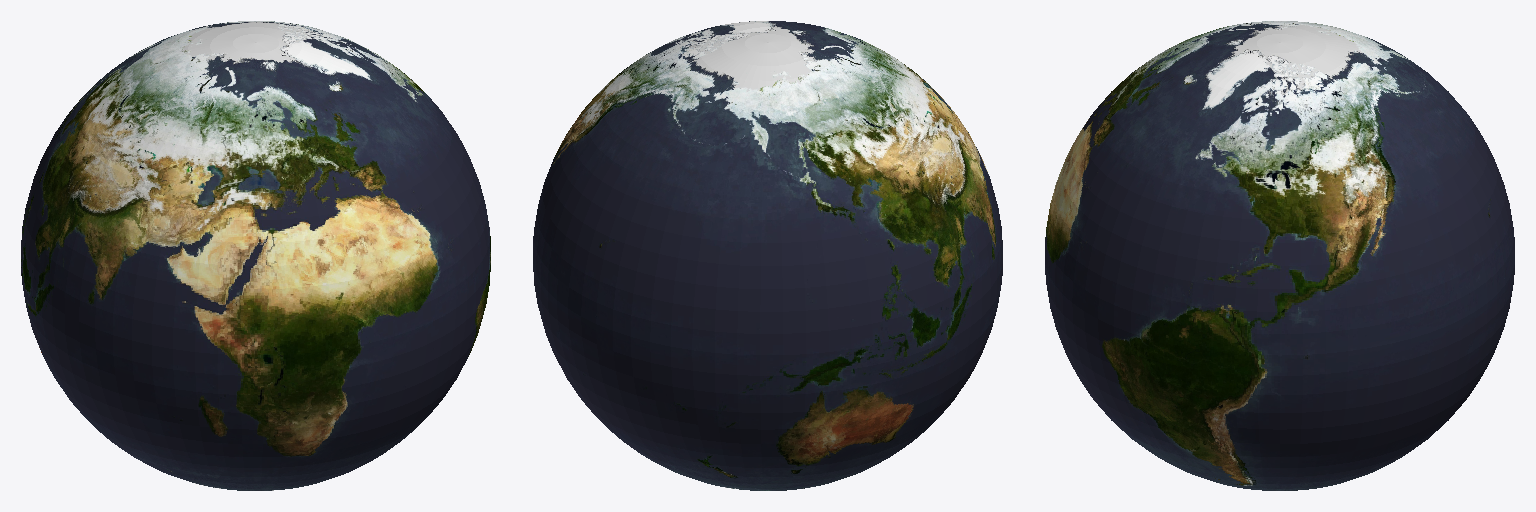
3 views of the same model, side by side, from view 1: azimuth 30°, elevation 25°; view 2: azimuth 150°, elevation 25°; view 3: azimuth 270°, elevation 25° (orthographic).
Visible parts, largest first — view 1: globe_Sphere.001; view 2: globe_Sphere.001; view 3: globe_Sphere.001.
Boxes of the visible parts, box(x1,y1,x2,y2) form: globe_Sphere.001: box(21, 21, 490, 490); globe_Sphere.001: box(533, 21, 1002, 490); globe_Sphere.001: box(1045, 21, 1514, 490).
Size of the model in its own units: 14 by 14 by 14.
Materials: 1 (1 with a texture image).